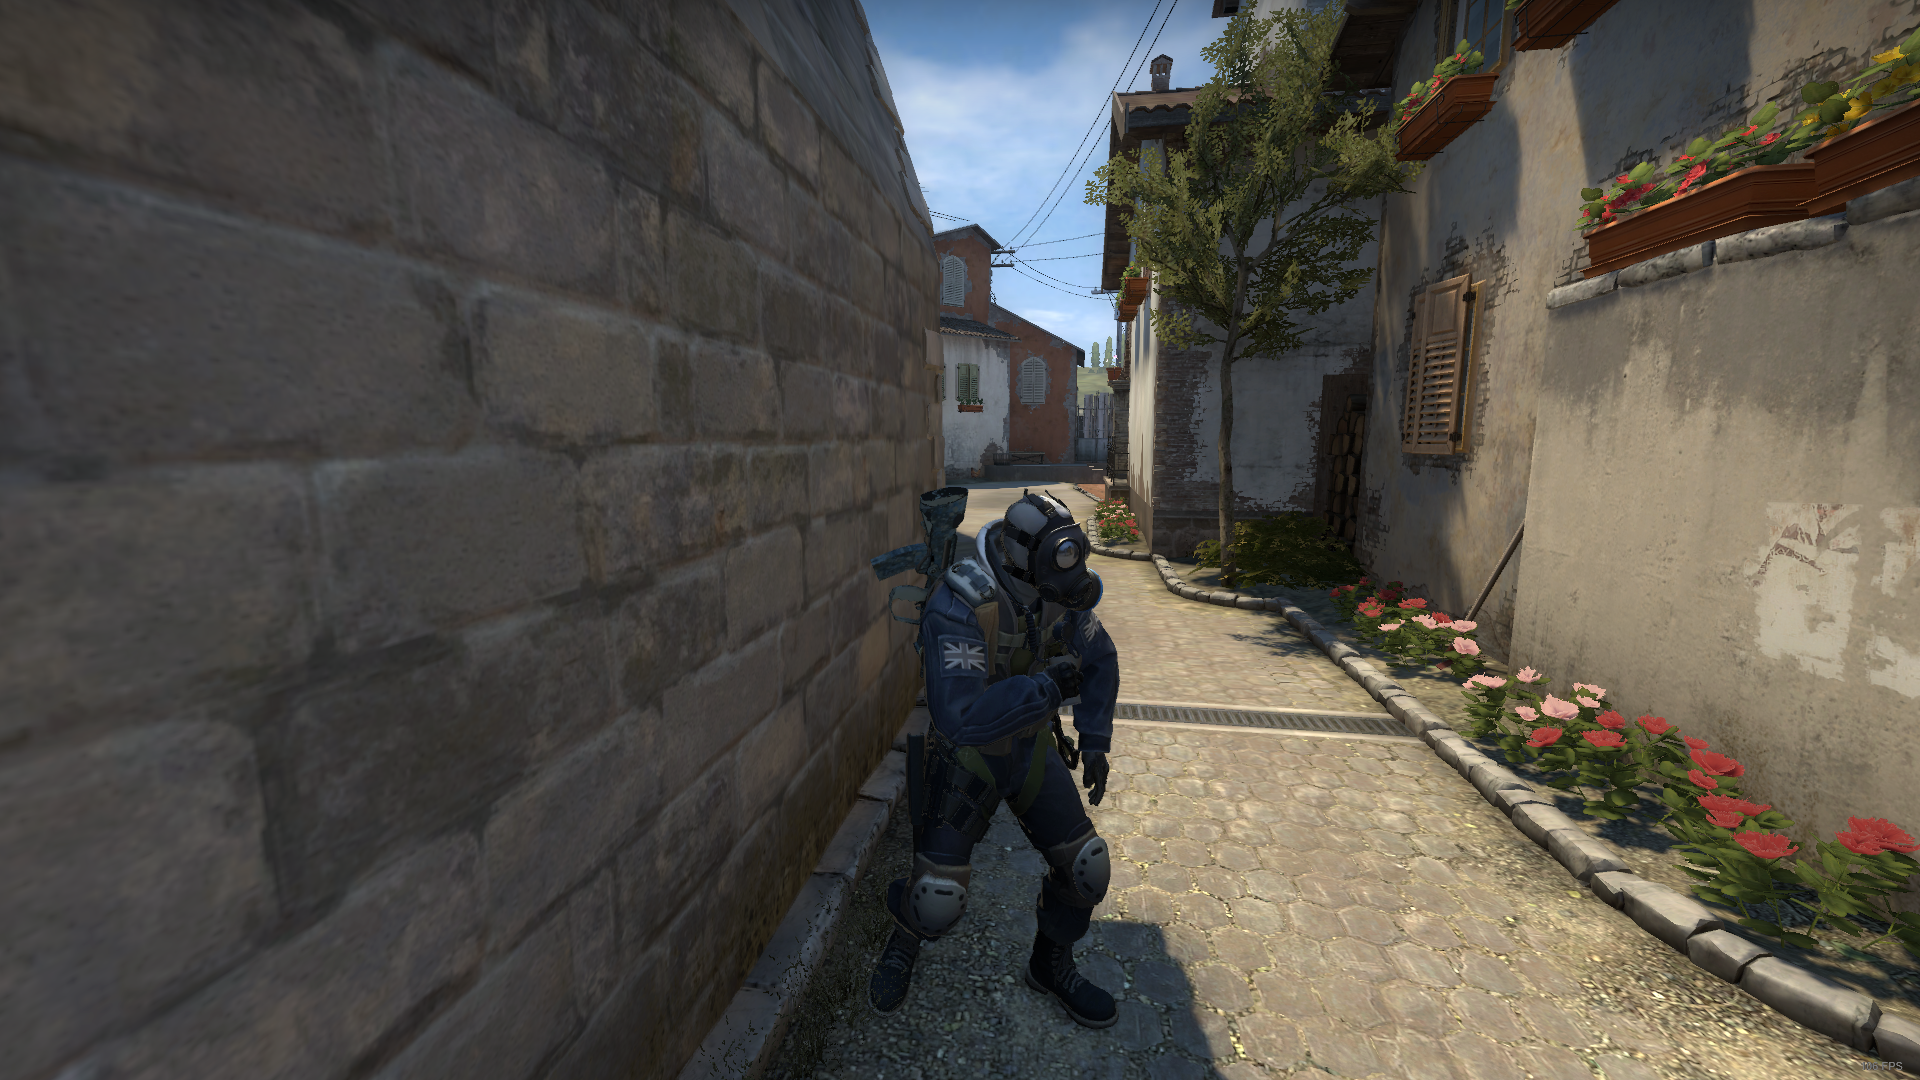ct: (861, 487, 1133, 1038)
